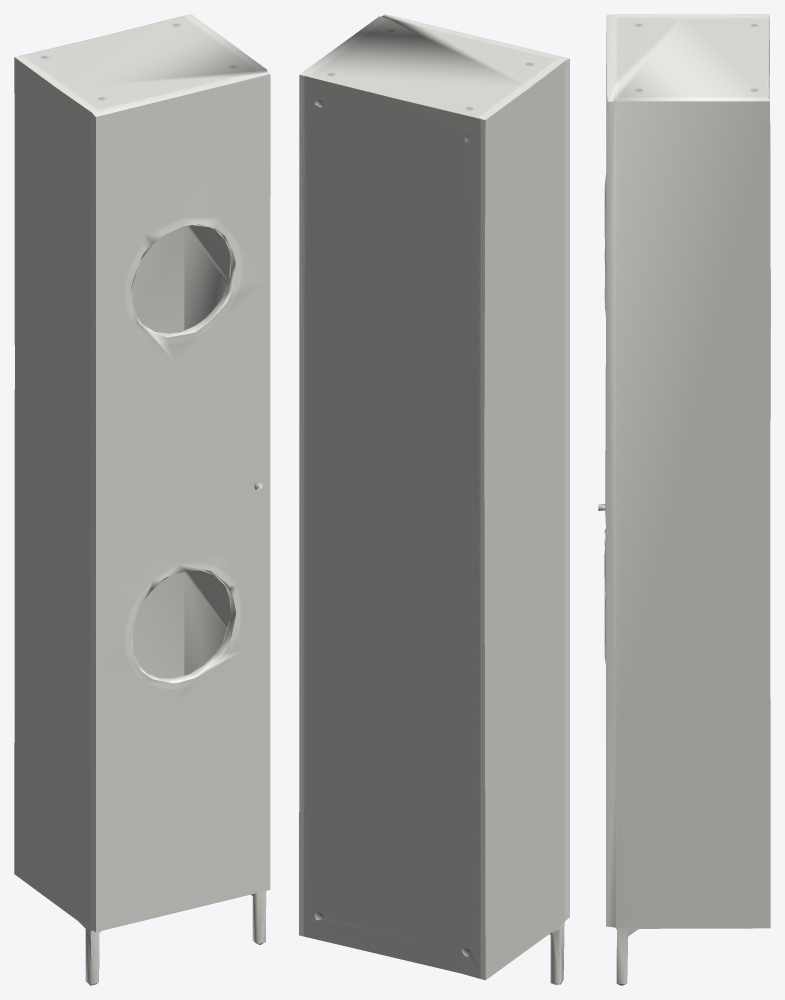
Rendered from nysjon_szafka_na_rzeczy_do_prania_40496471.glb.
The picture shows the model from 3 angles, left to right: view 1: azimuth 30°, elevation 25°; view 2: azimuth 150°, elevation 25°; view 3: azimuth 270°, elevation 25°; orthographic projection. The views are drawn at different scales.
Parts seen in each view (by area): view 1: nysjon_szafka_na_rzeczy_do_prania_40496471; view 2: nysjon_szafka_na_rzeczy_do_prania_40496471; view 3: nysjon_szafka_na_rzeczy_do_prania_40496471.
Part boxes in pixels (x1,y1,x2,y2): nysjon_szafka_na_rzeczy_do_prania_40496471: (14, 14, 270, 985); nysjon_szafka_na_rzeczy_do_prania_40496471: (299, 14, 569, 985); nysjon_szafka_na_rzeczy_do_prania_40496471: (598, 14, 770, 985).
Size of the model in its own units: 0.402 by 1.9 by 0.3349.
1 material, 1 textured.
